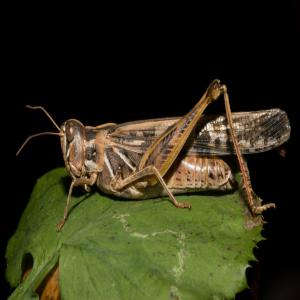locust: (31, 99, 297, 220)
